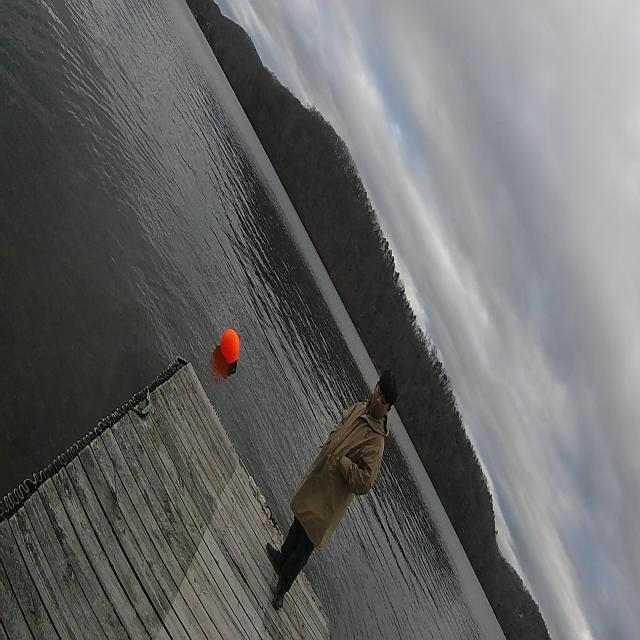Buoy: (217, 326, 241, 369)
